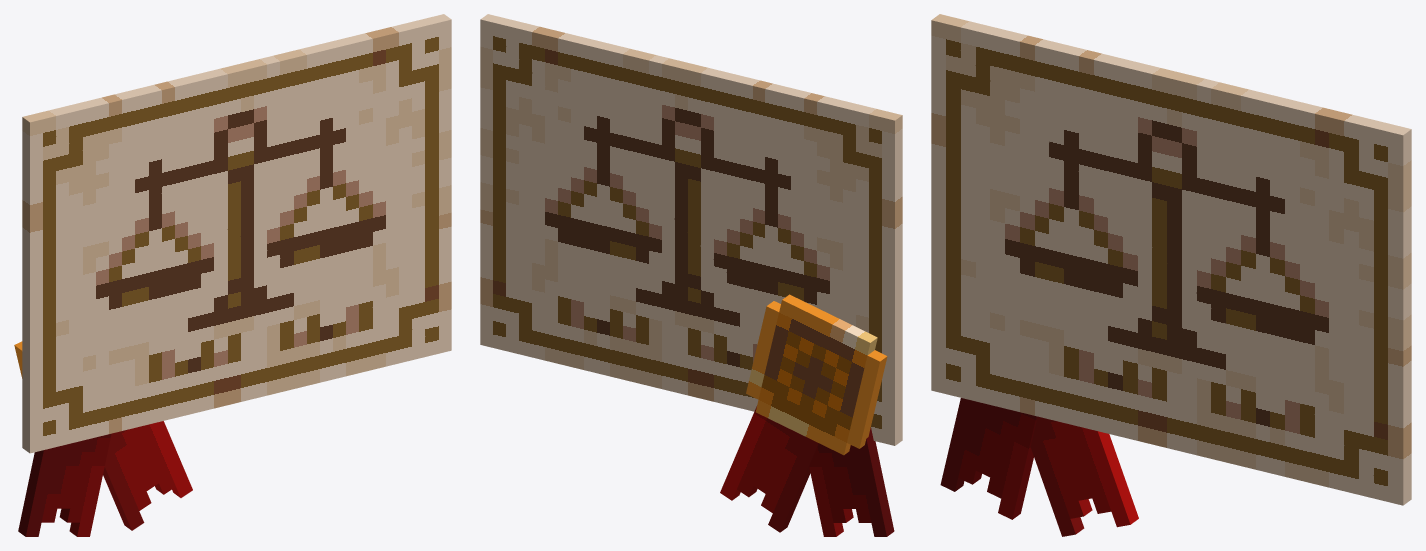
3 renders of one model, left to right at view 1: azimuth 30°, elevation 25°; view 2: azimuth 150°, elevation 25°; view 3: azimuth 330°, elevation 25°, orthographic. The views are drawn at different scales.
Parts seen in each view (by area): view 1: FoundersTrade02-Local, ribbon02$$(1)-Local, ribbon01$$(1)-Local; view 2: FoundersTrade02-Local, seal$$(1)-Local, ribbon01$$(1)-Local, ribbon02$$(1)-Local; view 3: FoundersTrade02-Local, ribbon01$$(1)-Local, ribbon02$$(1)-Local.
Boxes of the visible parts, x1,y1,x2,y2 form: FoundersTrade02-Local: (22, 14, 451, 453); ribbon02$$(1)-Local: (18, 433, 111, 536); ribbon01$$(1)-Local: (103, 421, 192, 530); FoundersTrade02-Local: (480, 14, 902, 445); seal$$(1)-Local: (746, 294, 887, 455); ribbon01$$(1)-Local: (720, 406, 818, 532); ribbon02$$(1)-Local: (809, 427, 894, 536); FoundersTrade02-Local: (931, 14, 1411, 505); ribbon01$$(1)-Local: (1030, 416, 1138, 536); ribbon02$$(1)-Local: (940, 398, 1037, 519).
Bounding box in the file's own units: 32 × 31.94 × 2.53.
4 materials, 4 textured.
